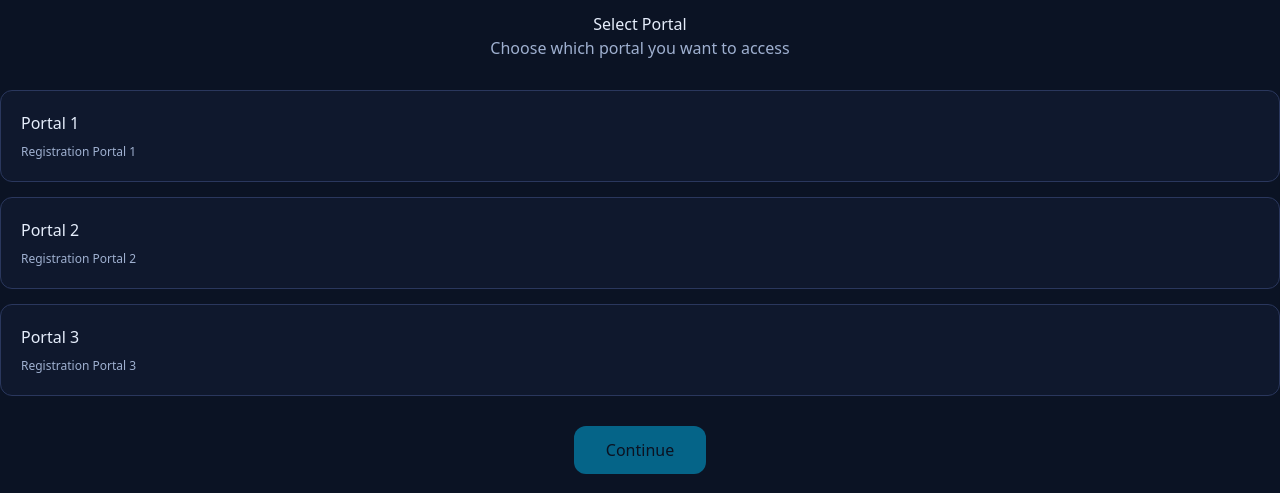
PortalSelection › Portal selection functionality › enables continue button when a portal is selected
This screenshot has width=1280, height=493.
Expected: the button "Continue" is disabled, [574,426,706,474]
Step 1. Click the heading "Portal 1" → click(50, 123), box [21,112,79,134]
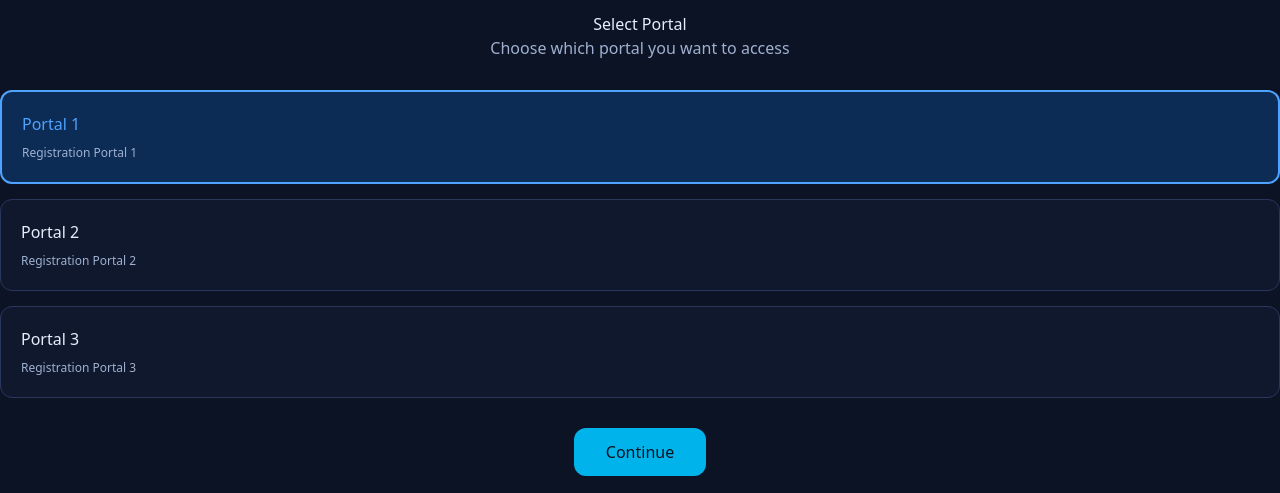
Expected: the button "Continue" is enabled, [574,428,706,476]
